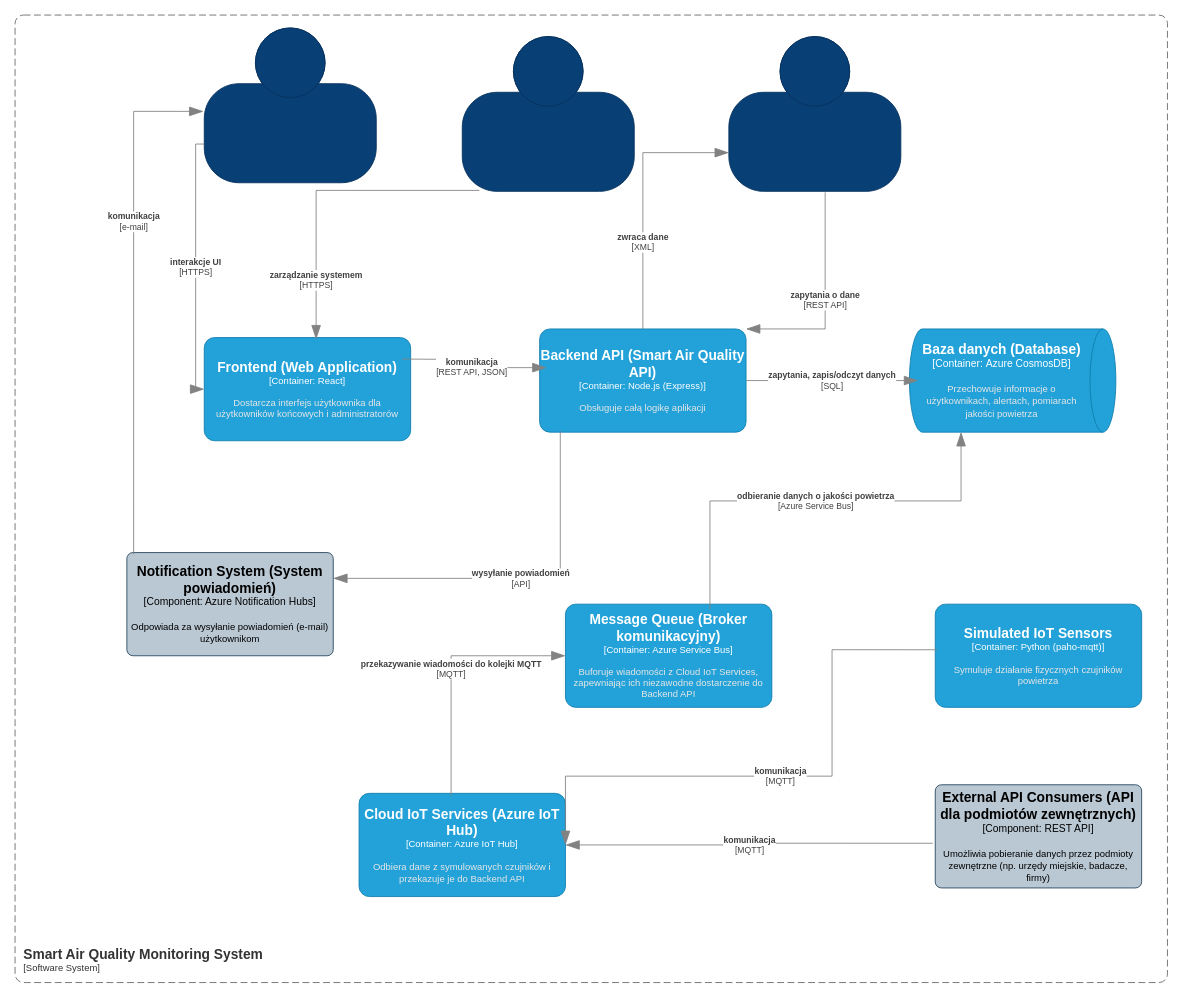
The diagram is 1183 pixels wide and 998 high, and some of its shapes have lost their labels. Here are the shapes that lost their labels. From the top down, the centre of each, then its label:
the point at 289,105: End User [Person] Osoba korzystająca z aplikacji
the point at 547,113: Admin [Person] Administrator systemu
the point at 814,113: External API Consumers [Person] Podmioty zewnętrzne, np. urzędy, firmy
